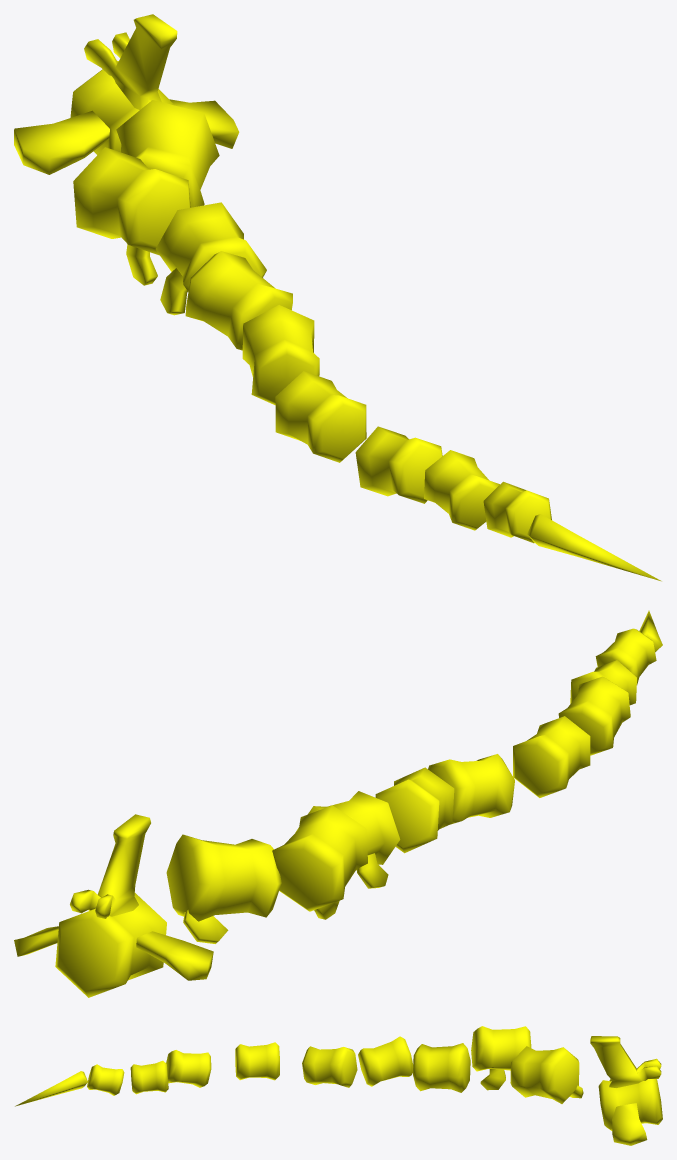
Rendered from bone_whale_tail00.glb.
3 renders of one model, top to bottom at view 1: azimuth 30°, elevation 25°; view 2: azimuth 150°, elevation 25°; view 3: azimuth 270°, elevation 25°, orthographic. The views are drawn at different scales.
Visible parts, largest first — view 1: bone_whale_tail00; view 2: bone_whale_tail00; view 3: bone_whale_tail00.
Part boxes in pixels (bbox=[...]): bone_whale_tail00: bbox=[14, 14, 661, 581]; bone_whale_tail00: bbox=[14, 610, 662, 997]; bone_whale_tail00: bbox=[15, 1026, 662, 1145].
Size of the model in its own units: 7.04 by 4.06 by 25.49.
Materials: 1 (1 with a texture image).
